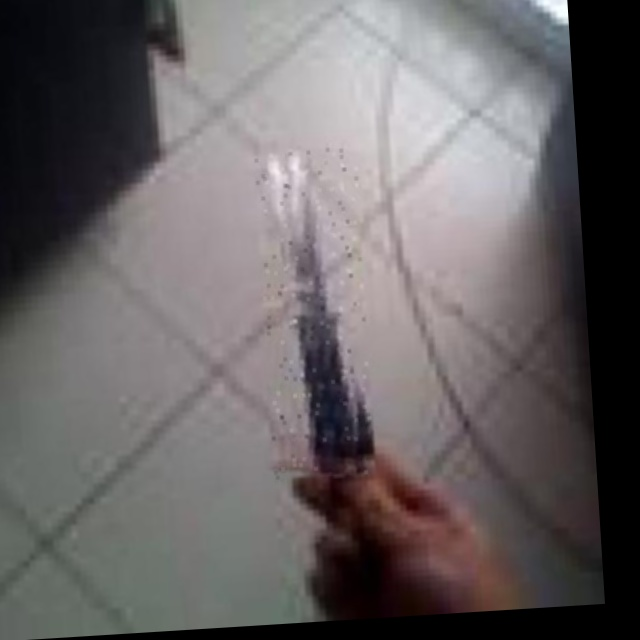Sharp-Object: (255, 143, 375, 478)
